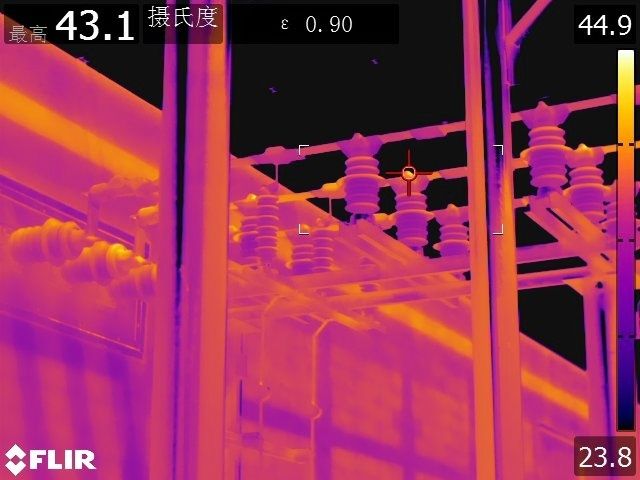post insulator: (519, 95, 574, 192), (335, 134, 387, 219), (562, 147, 612, 227), (390, 170, 434, 258), (434, 205, 473, 268), (603, 184, 640, 245), (252, 187, 284, 257), (306, 218, 337, 277), (287, 223, 314, 281), (239, 197, 261, 259)
tube: (3, 216, 85, 274), (60, 235, 143, 289), (110, 255, 162, 300)
